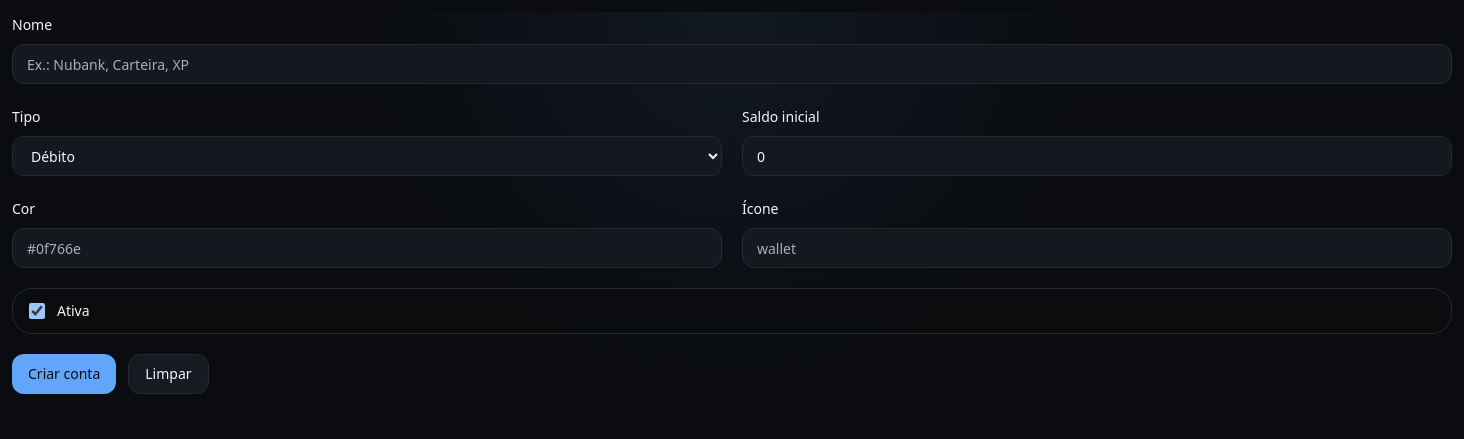
Test: AccountForm › hides initial balance when creating a credit account
This screenshot has width=1464, height=439.
Select "Crédito" in the dropdown labelled "Tipo" at (367, 156), box x1=12 y1=136 x2=722 y2=176
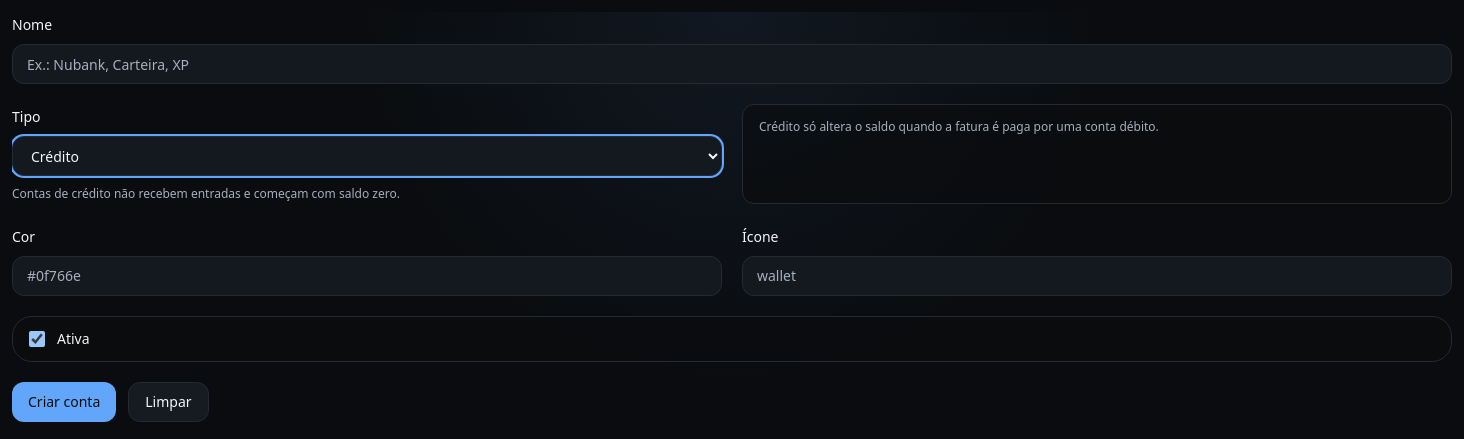
Check: the label labelled "Saldo inicial" is gone
Check: the text "Crédito só altera o saldo quando a fatura é paga por uma conta débito." is shown, box x1=742 y1=104 x2=1452 y2=204
